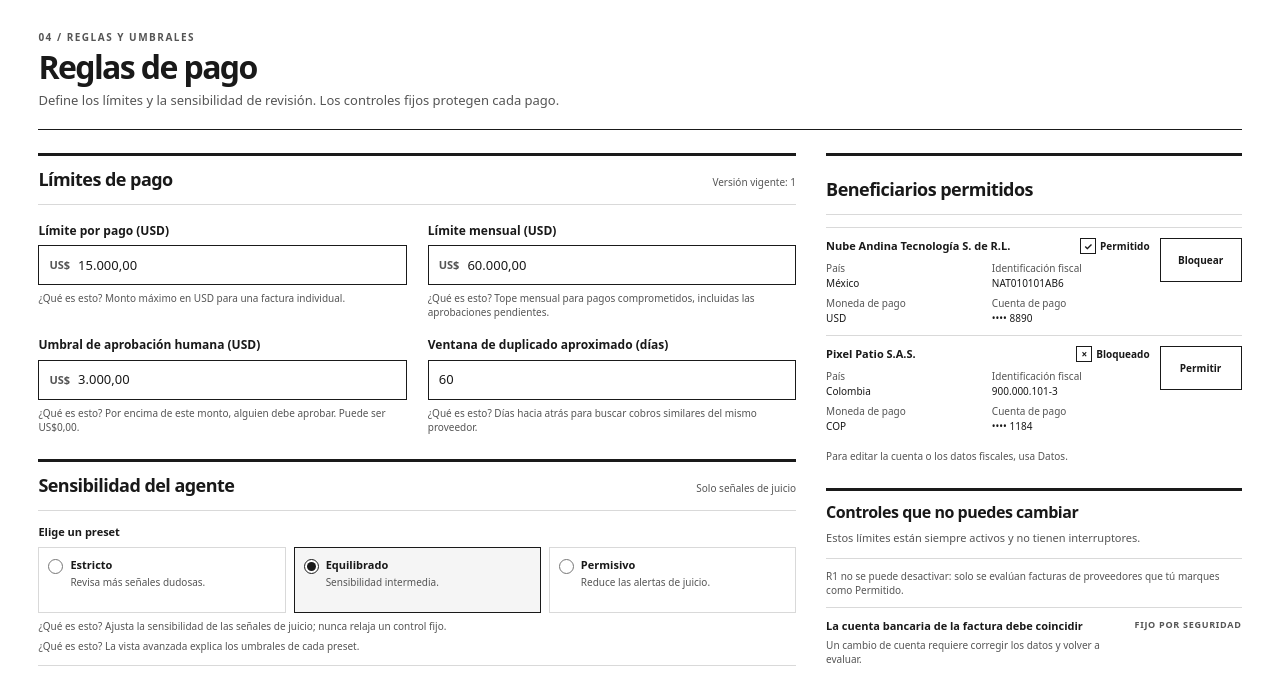
Test: Reglas › saves the full vendor row with its current version and adopts the response
Click the button "Bloquear". click: (1201, 260)
box: [1160,238,1242,282]
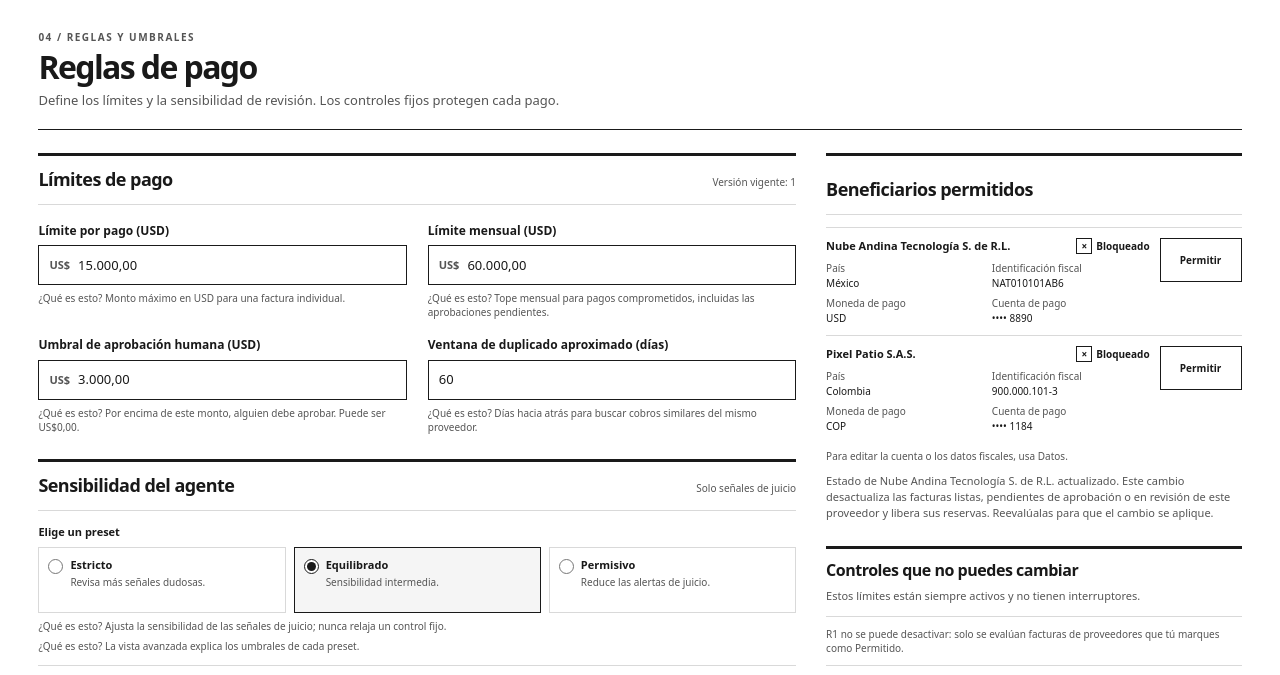
Expected: the list item "Nube Andina Tecnología S. de R.L." is shown, [826,238,1010,253]
Expected: the 1st text "Bloqueado" is shown, [1096,239,1150,253]
